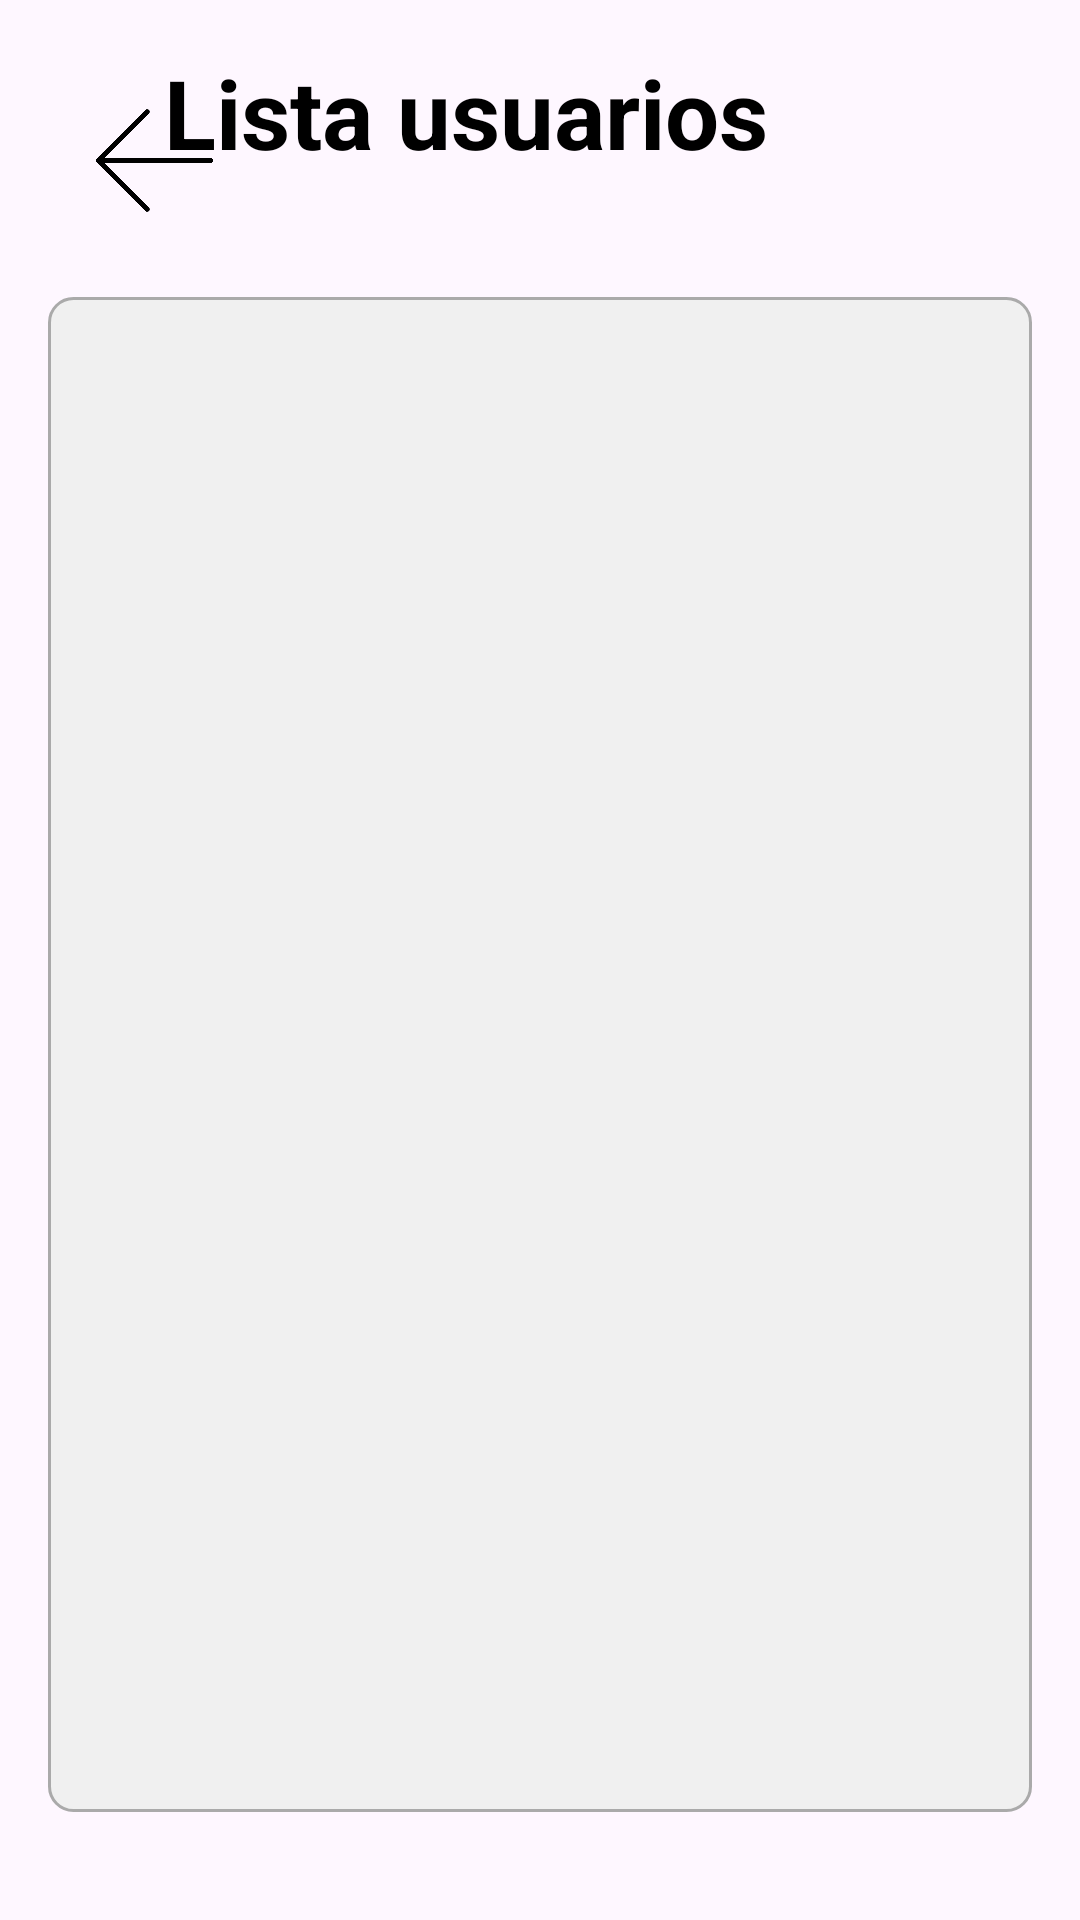

Icon bounding boxes for this 1080*1920 phone screenshot, format bbox=(x1, y1, x2, y2):
Botón de volver: bbox=(96, 109, 213, 212)
